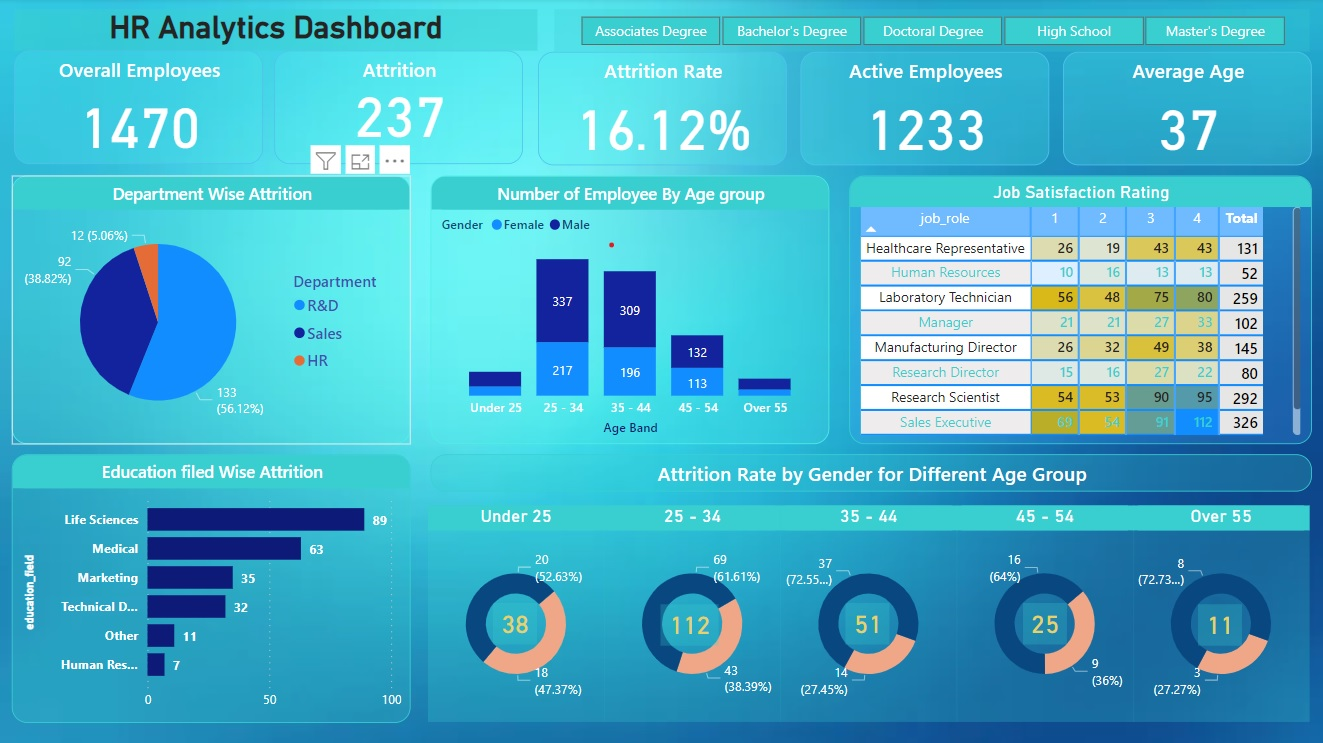

The dashboard page shown, as its layout file describes it:
{"tool":"powerbi","page":{"name":"Dashboard","canvas":[1280,720],"ordinal":0},"visuals":[{"type":"card","title":"Overall Employees","fields":{"Values":["Sum(hrdata.employee_count)"]},"box":[15.7,50.7,240,109.7],"z":0},{"type":"card","title":"Attrition","fields":{"Values":["Sum(hrdata.Attrirtion Count)"]},"box":[266.8,51,240,109.7],"z":1000},{"type":"card","title":"Attrition Rate","fields":{"Values":["hrdata.Attrition_Rate"]},"box":[520.4,51.3,240,109.7],"z":2000},{"type":"card","title":"Active Employees","fields":{"Values":["hrdata.Active Employees"]},"box":[774,51.6,240,109.7],"z":3000},{"type":"card","title":"Average Age ","fields":{"Values":["Avg(hrdata.age)"]},"box":[1027.5,51.9,240,109.7],"z":4000},{"type":"pieChart","title":"Department Wise Attrition","fields":{"Category":["hrdata.department"],"Y":["Sum(hrdata.Attrirtion Count)"]},"box":[13.3,171.3,384.7,259.3],"z":5000},{"type":"columnChart","title":"Number of Employee By Age group ","fields":{"Category":["hrdata.age_band"],"Y":["Sum(hrdata.employee_count)"],"Series":["hrdata.gender"]},"box":[417.3,171.3,384.7,259.3],"z":6000},{"type":"pivotTable","title":"Job Satisfaction Rating ","fields":{"Rows":["hrdata.job_role"],"Columns":["hrdata.job_satisfaction"],"Values":["Sum(hrdata.employee_count)"]},"box":[821.3,171.3,446.2,259.3],"z":7000},{"type":"barChart","title":"Education filed Wise Attrition ","fields":{"Category":["hrdata.education_field"],"Y":["Sum(hrdata.Attrirtion Count)"]},"box":[13,440,385,259],"z":8000},{"type":"donutChart","title":"Under 25","fields":{"Category":["hrdata.gender"],"Y":["Sum(hrdata.Attrirtion Count)"],"Series":["hrdata.age_band"]},"box":[415.1,490.2,170.1,208.6],"z":9000},{"type":"textbox","title":"Attrition Rate by Gender for Different Age Group ","box":[417.2,440.5,850.8,35.7],"z":10000},{"type":"donutChart","title":"25 - 34","fields":{"Category":["hrdata.gender"],"Y":["Sum(hrdata.Attrirtion Count)"],"Series":["hrdata.age_band"]},"box":[585.1,490.2,170.1,208.6],"z":11000},{"type":"donutChart","title":"35 - 44","fields":{"Category":["hrdata.gender"],"Y":["Sum(hrdata.Attrirtion Count)"],"Series":["hrdata.age_band"]},"box":[755.2,490.2,170.1,208.6],"z":12000},{"type":"donutChart","title":"45 - 54","fields":{"Category":["hrdata.gender"],"Y":["Sum(hrdata.Attrirtion Count)"],"Series":["hrdata.age_band"]},"box":[925.2,490.2,170.1,208.6],"z":13000},{"type":"donutChart","title":"Over 55","fields":{"Category":["hrdata.gender"],"Y":["Sum(hrdata.Attrirtion Count)"],"Series":["hrdata.age_band"]},"box":[1095.3,490.2,170.1,208.6],"z":14000},{"type":"card","fields":{"Values":["Sum(hrdata.Attrirtion Count)"]},"box":[1158.2,584.6,42.5,39.8],"z":15000},{"type":"card","fields":{"Values":["Sum(hrdata.Attrirtion Count)"]},"box":[989.4,583.2,42.5,39.8],"z":16000},{"type":"card","fields":{"Values":["Sum(hrdata.Attrirtion Count)"]},"box":[817.8,583.2,42.5,39.8],"z":17000},{"type":"card","fields":{"Values":["Sum(hrdata.Attrirtion Count)"]},"box":[639.5,584.6,56.3,39.8],"z":18000},{"type":"card","fields":{"Values":["Sum(hrdata.Attrirtion Count)"]},"box":[477.5,583.2,42.5,39.8],"z":18001},{"type":"textbox","title":"HR Analytics Dashboard","box":[15.1,11,505,39.8],"z":18002},{"type":"slicer","fields":{"Values":["hrdata.education"]},"box":[536.5,11,728.6,41.2],"z":18003}]}

Visuals, with their boxes in screenshot pixels (x1, y1, x2, y2), scaled from the page's 1280x720 canvas onto the 1323x743 screenshot:
"Overall Employees" card: bbox(16, 52, 264, 166)
"Attrition" card: bbox(276, 53, 524, 166)
"Attrition Rate" card: bbox(538, 53, 786, 166)
"Active Employees" card: bbox(800, 53, 1048, 166)
"Average Age " card: bbox(1062, 54, 1310, 167)
"Department Wise Attrition" pieChart: bbox(14, 177, 411, 444)
"Number of Employee By Age group " columnChart: bbox(431, 177, 829, 444)
"Job Satisfaction Rating " pivotTable: bbox(849, 177, 1310, 444)
"Education filed Wise Attrition " barChart: bbox(13, 454, 411, 721)
"Under 25" donutChart: bbox(429, 506, 605, 721)
"Attrition Rate by Gender for Different Age Group " textbox: bbox(431, 455, 1311, 491)
"25 - 34" donutChart: bbox(605, 506, 781, 721)
"35 - 44" donutChart: bbox(781, 506, 956, 721)
"45 - 54" donutChart: bbox(956, 506, 1132, 721)
"Over 55" donutChart: bbox(1132, 506, 1308, 721)
card - Sum(hrdata.Attrirtion Count): bbox(1197, 603, 1241, 644)
card - Sum(hrdata.Attrirtion Count): bbox(1023, 602, 1067, 643)
card - Sum(hrdata.Attrirtion Count): bbox(845, 602, 889, 643)
card - Sum(hrdata.Attrirtion Count): bbox(661, 603, 719, 644)
card - Sum(hrdata.Attrirtion Count): bbox(494, 602, 537, 643)
"HR Analytics Dashboard" textbox: bbox(16, 11, 538, 52)
slicer - hrdata.education: bbox(555, 11, 1308, 54)
